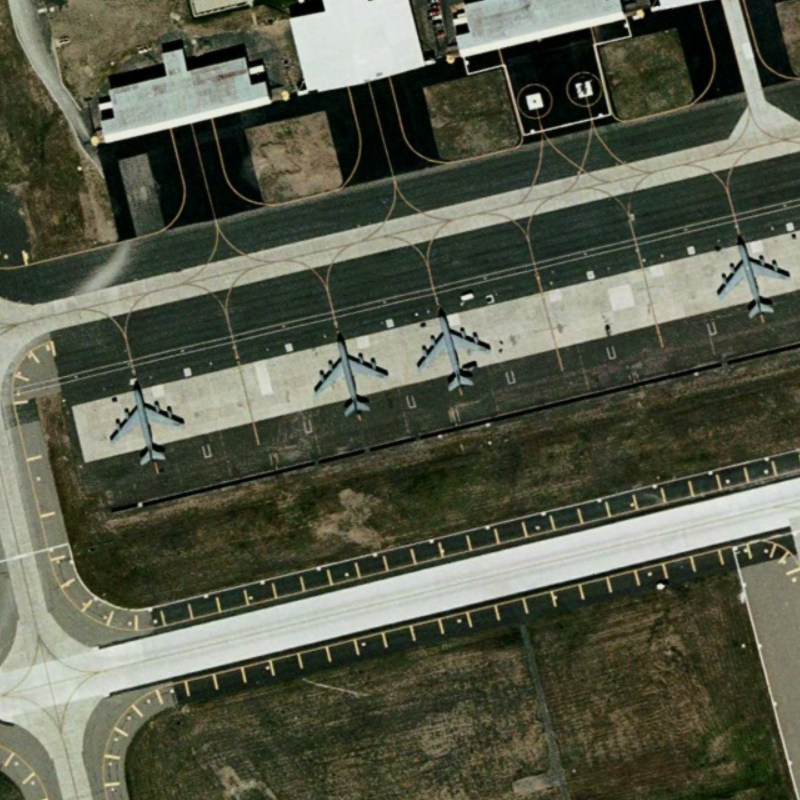A14: (103, 376, 193, 473), (708, 231, 797, 327), (307, 330, 398, 419), (411, 303, 495, 395)
